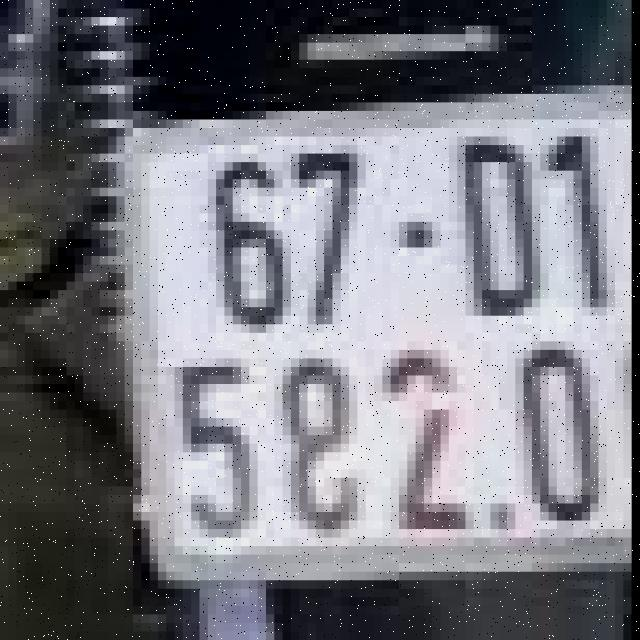0: (495, 324, 594, 529)
1: (540, 119, 632, 316)
2: (378, 337, 470, 550)
5: (166, 337, 266, 559)
6: (195, 132, 295, 346)
7: (291, 141, 374, 337)
8: (270, 341, 370, 546)
D: (445, 115, 544, 329)
